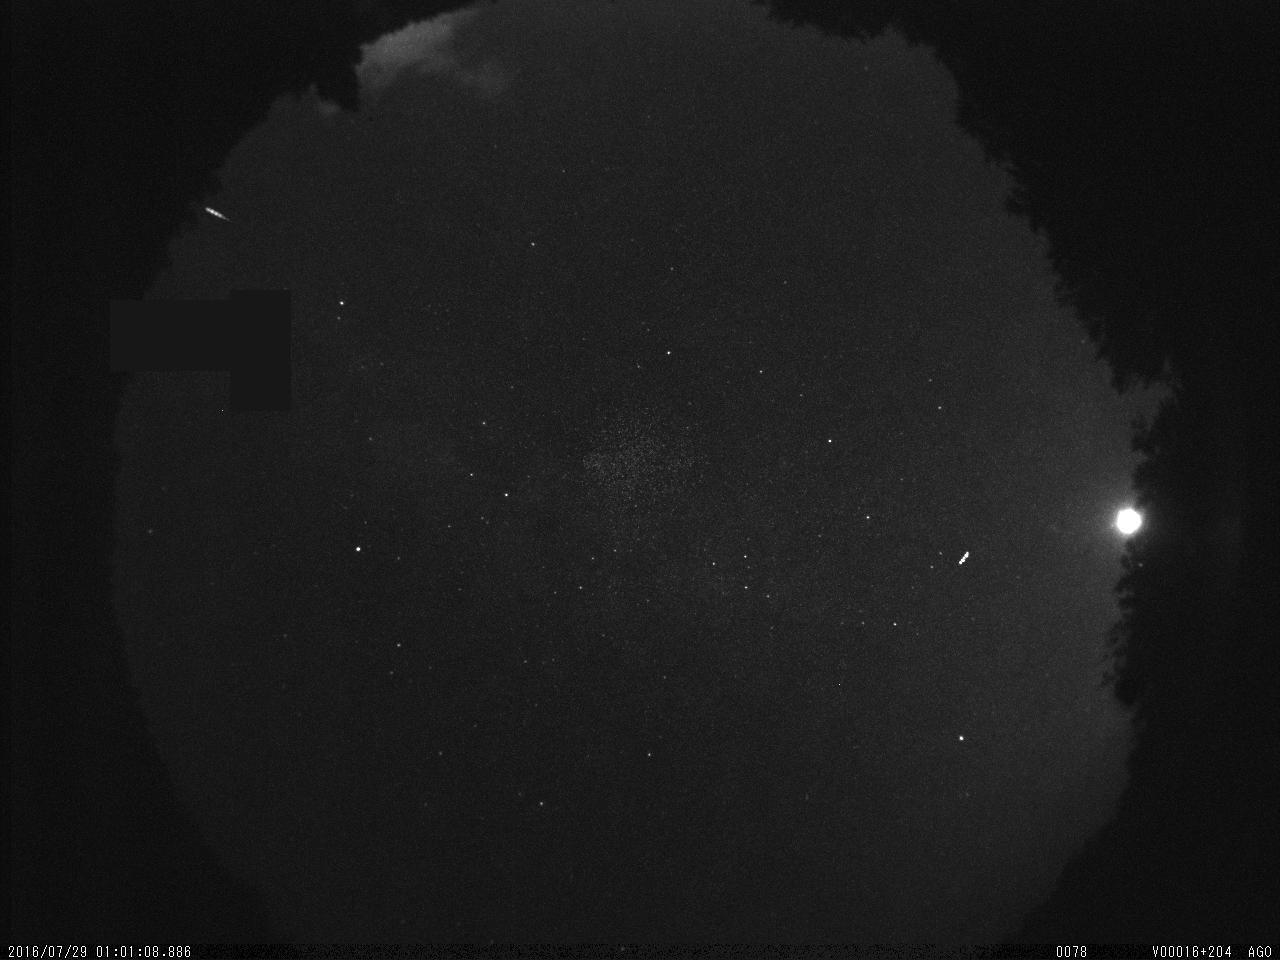meteor: (201, 201, 233, 226)
satelite: (953, 546, 977, 571)
